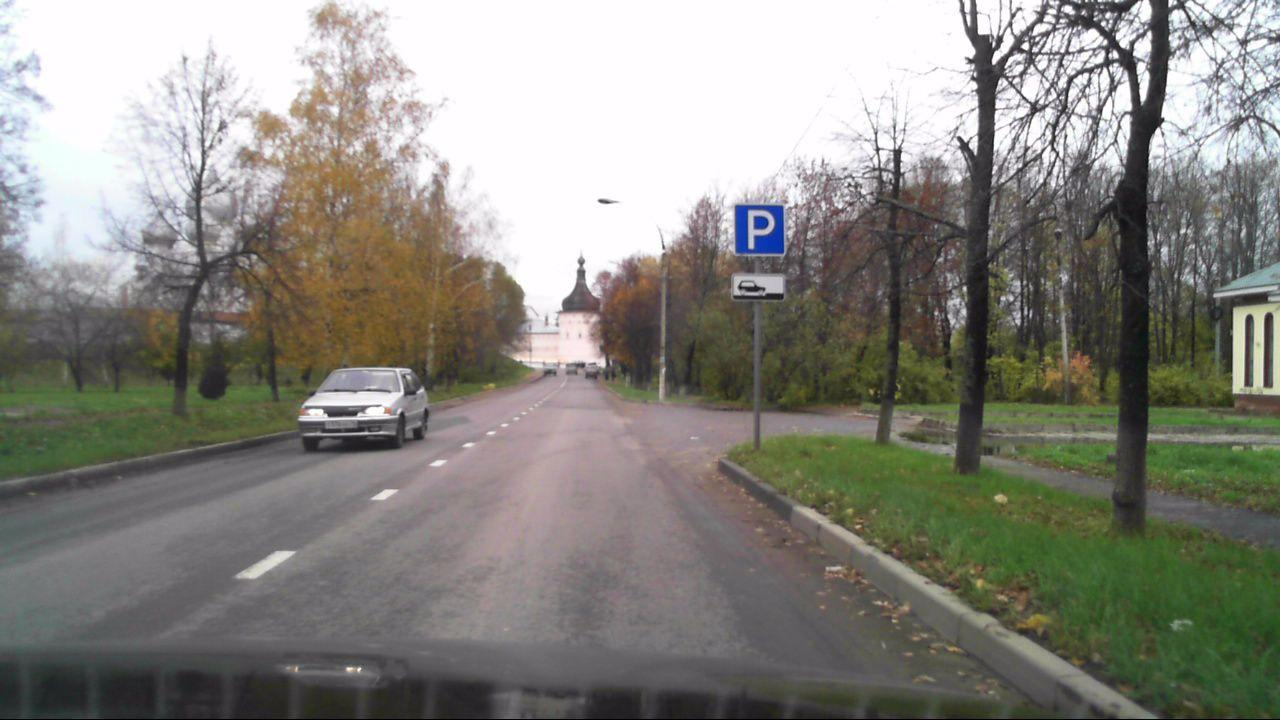6_4: (732, 202, 788, 257)
8_6_5: (732, 274, 784, 302)
